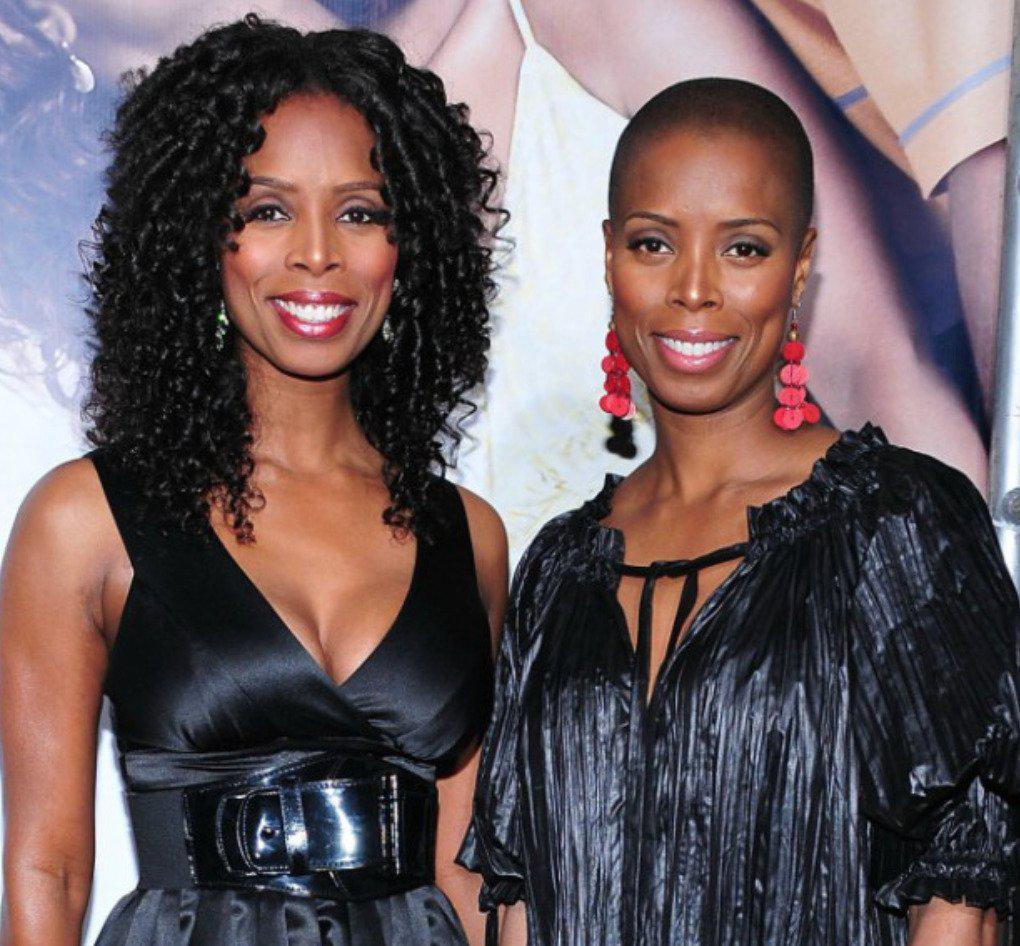Sober: (211, 114, 393, 353), (619, 148, 791, 393)
